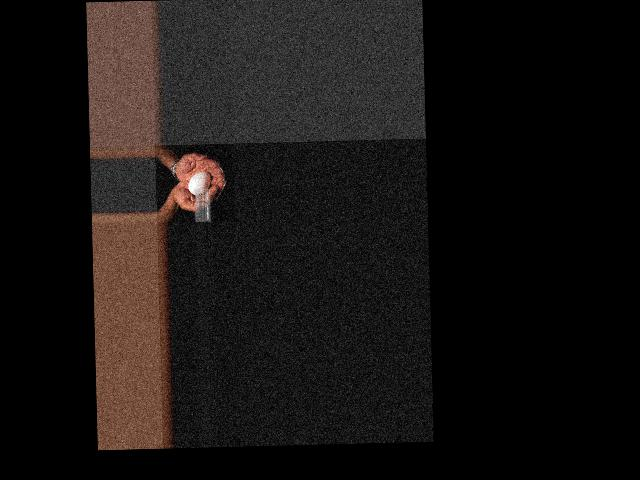egg: (188, 170, 211, 195)
